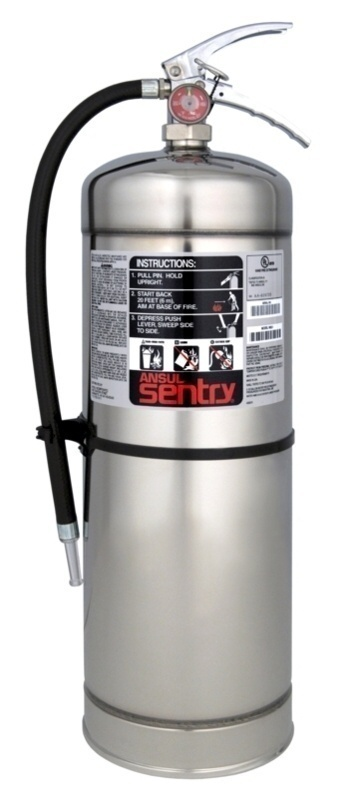fire_extinguisher: (25, 20, 310, 780)
